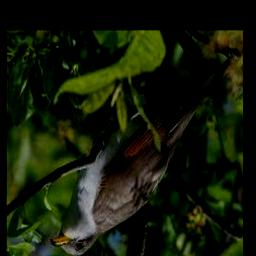Cuckoo: (51, 73, 209, 256)
